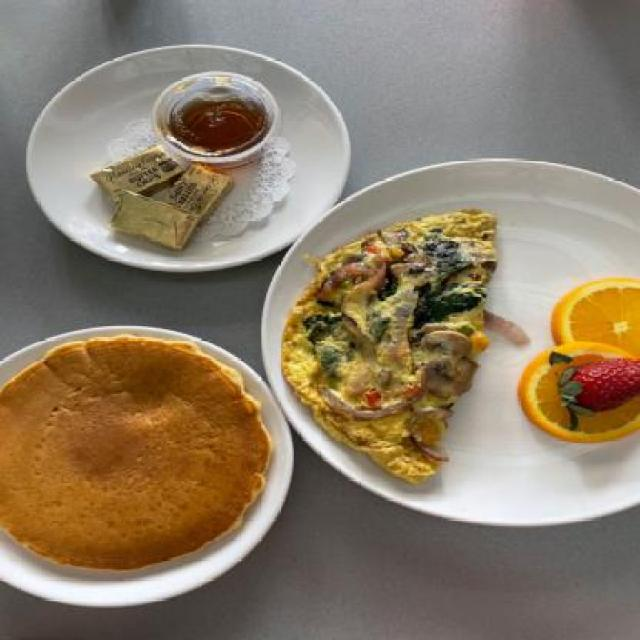omelette: (279, 198, 506, 497)
pancakes: (1, 324, 284, 573)
